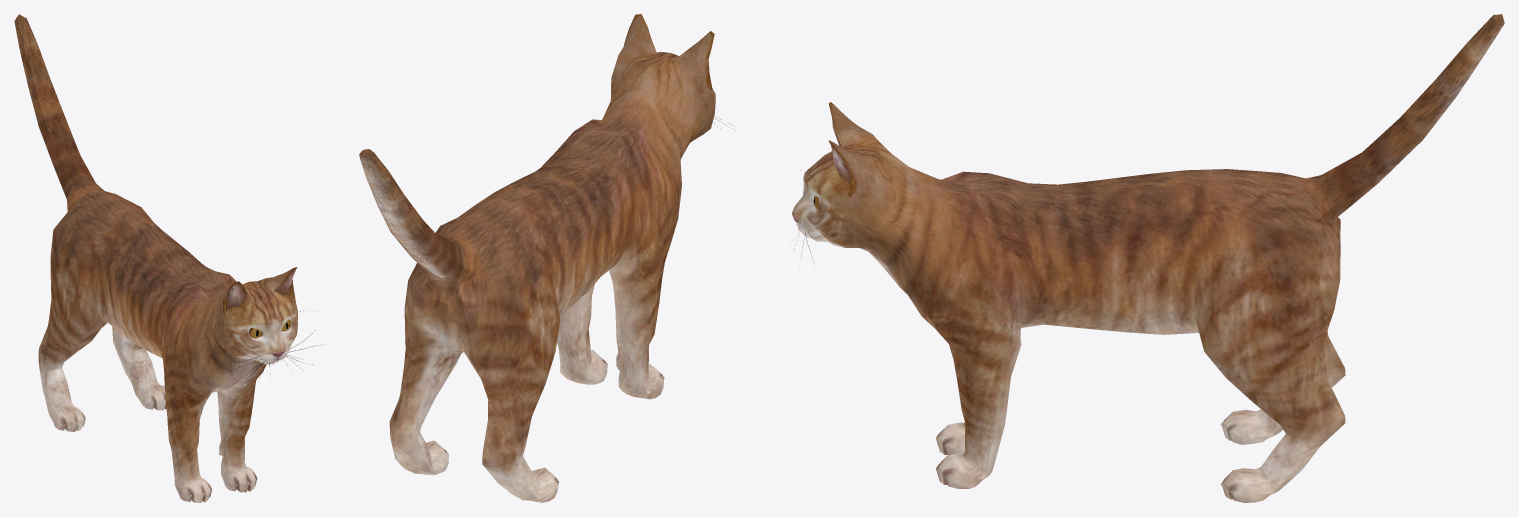
The model's file is cat.glb.
The picture shows the model from 3 angles, left to right: view 1: azimuth 30°, elevation 25°; view 2: azimuth 150°, elevation 25°; view 3: azimuth 270°, elevation 25°; orthographic projection. The views are drawn at different scales.
Parts seen in each view (by area): view 1: Object_2; view 2: Object_2; view 3: Object_2.
Part boxes in pixels (x1=…): Object_2: x1=14, y1=14, x2=325, y2=502; Object_2: x1=359, y1=14, x2=732, y2=502; Object_2: x1=792, y1=14, x2=1504, y2=502.
Bounding box in the file's own units: 0.6371 × 1.73 × 2.5.
Materials: 1 (1 with a texture image).
